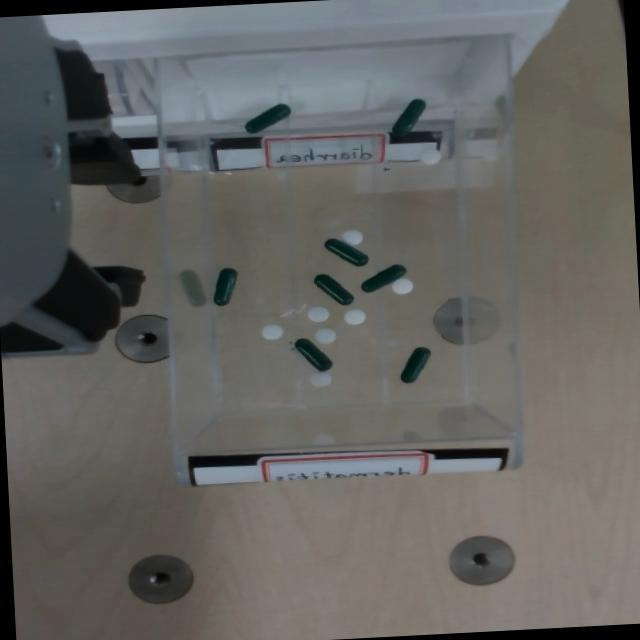ganakan_tab: (391, 276, 416, 295), (308, 369, 334, 387), (341, 227, 366, 245), (343, 307, 366, 324), (314, 327, 337, 343), (307, 306, 330, 322), (262, 323, 284, 339)
monodoxy_cap: (388, 97, 430, 138), (243, 101, 295, 134), (293, 334, 335, 372), (324, 235, 371, 268), (360, 262, 410, 293), (313, 271, 355, 307), (245, 103, 292, 133), (399, 345, 435, 383), (392, 98, 426, 137), (325, 238, 369, 266), (296, 338, 333, 371), (315, 274, 354, 305), (363, 264, 406, 292), (212, 265, 242, 305), (401, 347, 431, 383), (214, 267, 238, 305)
